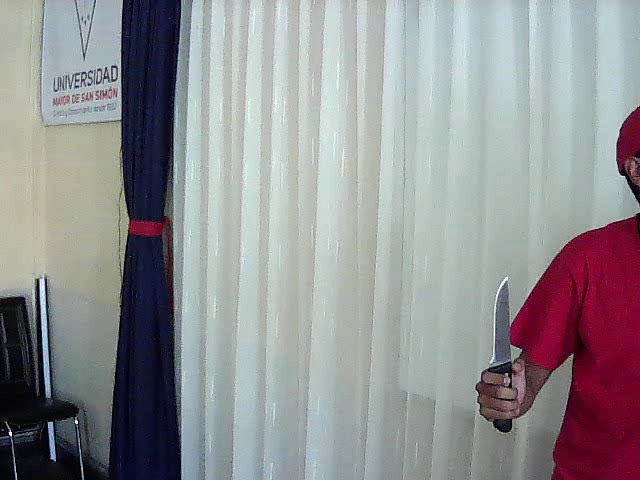cuchillo: (476, 266, 521, 400)
